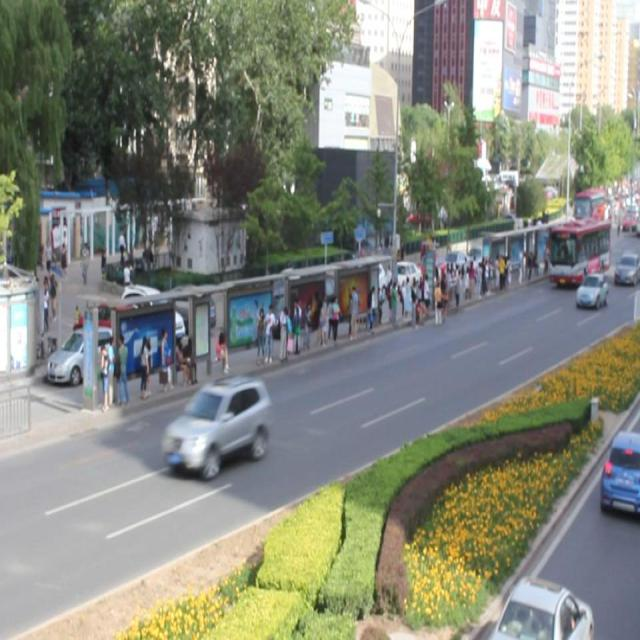car: (161, 374, 270, 477), (574, 271, 607, 307)
